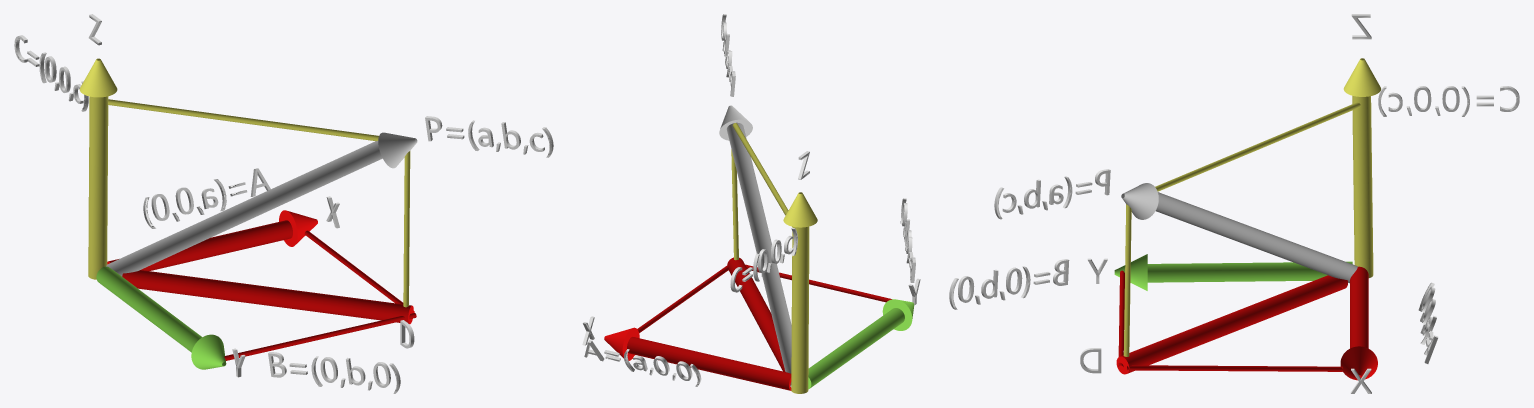
3 renders of one model, left to right at view 1: azimuth 30°, elevation 25°; view 2: azimuth 150°, elevation 25°; view 3: azimuth 270°, elevation 25°, orthographic. The views are drawn at different scales.
Visible parts, largest first — view 1: Cylinder.018, Cylinder.017, Cylinder.019, Cylinder.021, Cylinder.020, Cylinder.8, Cylinder.7, Cone.014, Cylinder.5, Cone.012, Cone.013, Cone.015 (+1 smaller); view 2: Cylinder.018, Cylinder.021, Cylinder.019, Cylinder.020, Cylinder.017, Cone.013, Cylinder.8, Cylinder.6, Cylinder.5, Cone.015, Cylinder.7, Cone.012 (+1 smaller); view 3: Cylinder.017, Cylinder.018, Cylinder.019, Cylinder.020, Cylinder.021, Cylinder.8, Cylinder.6, Cone.012, Cone.015, Cylinder.5, Cone.013, Cone.014 (+1 smaller).
Boxes of the visible parts, x1,y1,x2,y2 form: Cylinder.018: (106, 141, 382, 276); Cylinder.017: (122, 270, 413, 324); Cylinder.019: (88, 96, 108, 279); Cylinder.021: (107, 220, 292, 270); Cylinder.020: (96, 266, 201, 352); Cylinder.8: (108, 99, 378, 141); Cylinder.7: (224, 313, 416, 360); Cone.014: (191, 334, 226, 369); Cylinder.5: (403, 151, 410, 307); Cone.012: (378, 132, 417, 168); Cone.013: (79, 58, 117, 97); Cone.015: (279, 210, 317, 246); Cylinder.018: (726, 122, 791, 387); Cylinder.021: (627, 337, 791, 390); Cylinder.019: (791, 226, 809, 393); Cylinder.020: (808, 308, 904, 389); Cylinder.017: (727, 257, 785, 371); Cone.013: (783, 192, 817, 227); Cylinder.8: (732, 123, 788, 215); Cylinder.6: (637, 265, 728, 332); Cylinder.5: (731, 149, 738, 260); Cone.015: (604, 327, 639, 360); Cylinder.7: (745, 264, 891, 302); Cone.012: (719, 105, 752, 140); Cylinder.017: (1116, 275, 1347, 374); Cylinder.018: (1156, 192, 1357, 283); Cylinder.019: (1352, 96, 1373, 277); Cylinder.020: (1147, 261, 1352, 282); Cylinder.021: (1350, 266, 1368, 348); Cylinder.8: (1155, 102, 1360, 191); Cylinder.6: (1127, 365, 1342, 371); Cone.012: (1121, 183, 1158, 219); Cone.015: (1340, 346, 1377, 380); Cylinder.5: (1123, 204, 1131, 356); Cone.013: (1343, 58, 1380, 96); Cone.014: (1114, 254, 1147, 290).
Size of the model in its own units: 0.1761 by 0.1603 by 0.304.
